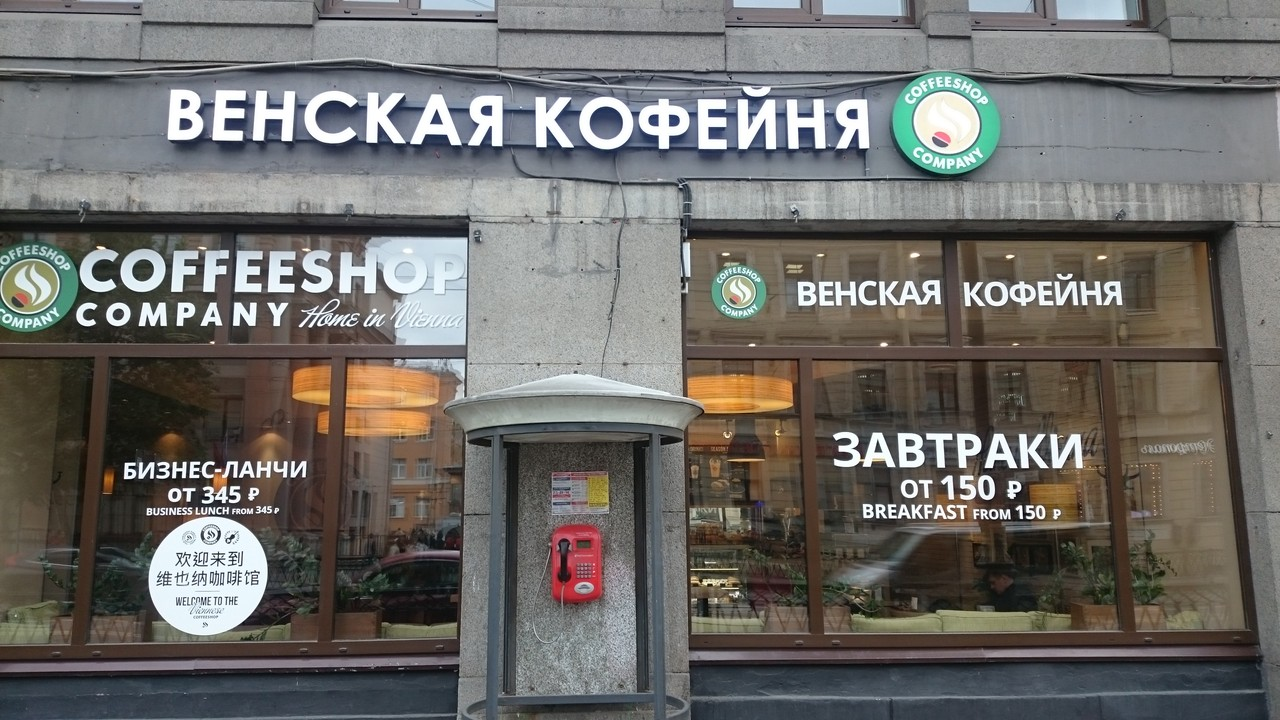signboard: (162, 71, 994, 174)
win_ad: (1, 245, 463, 332), (119, 460, 308, 637), (709, 261, 1125, 325), (830, 425, 1093, 526)
window: (677, 227, 1256, 654), (1, 225, 470, 661)
